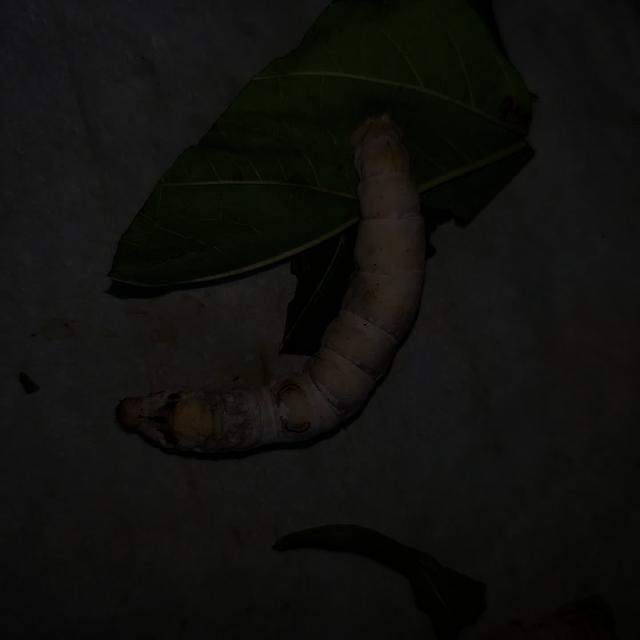Grasserie: (92, 78, 513, 492)
